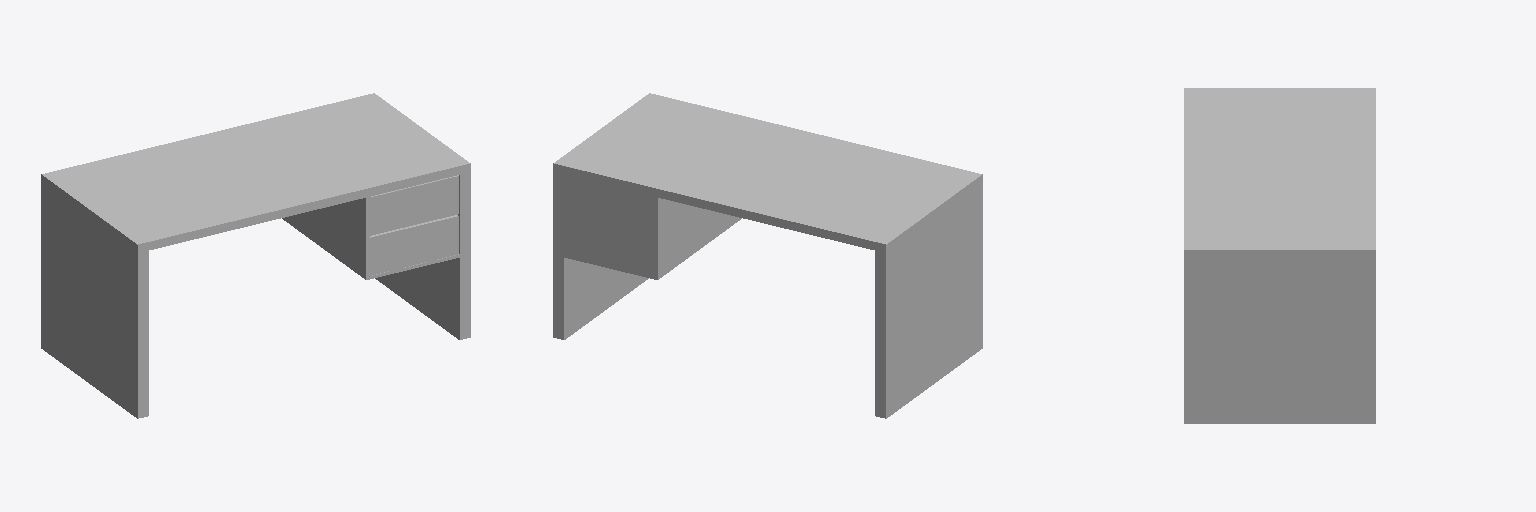
Rendered from desk.obj.
3 renders of one model, left to right at view 1: azimuth 30°, elevation 25°; view 2: azimuth 150°, elevation 25°; view 3: azimuth 270°, elevation 25°, orthographic.
Size of the model in its own units: 2 by 1 by 1.